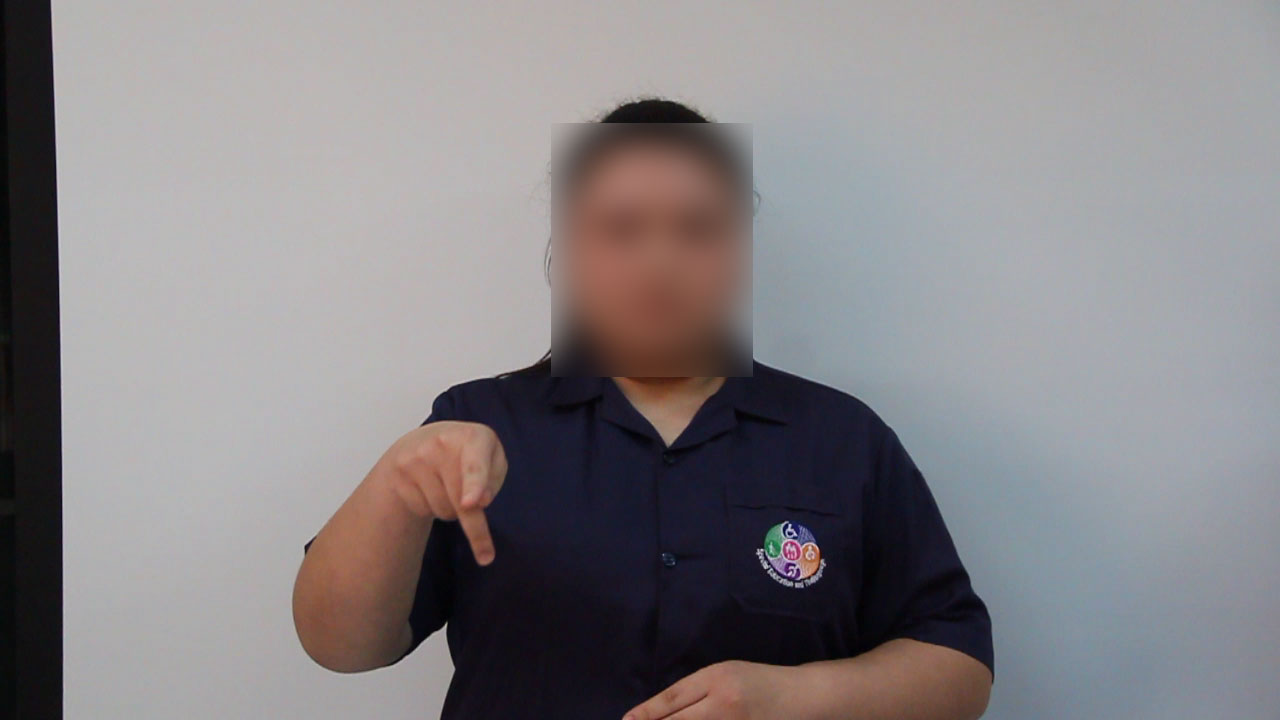por: (380, 411, 516, 571)
